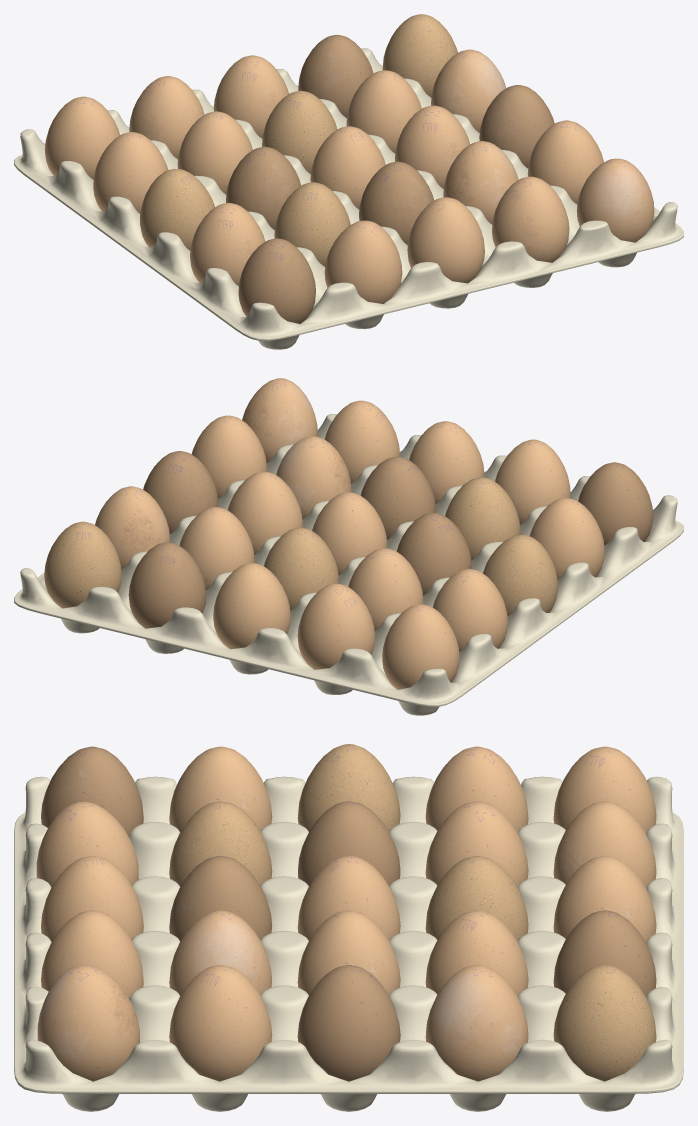
The model's file is Eggs 1 .fbx.
3 views of the same model, one above another, from view 1: azimuth 30°, elevation 25°; view 2: azimuth 150°, elevation 25°; view 3: azimuth 270°, elevation 25° (orthographic). The views are drawn at different scales.
Visible parts, largest first — view 1: Plane003_Material #26_0, Sphere021_2_0, Sphere016_Material #31_0, Sphere006_1_0, Sphere011_Material #32_0, Sphere026_Material #27_0, Sphere005_2_0, Sphere002_Material #30_0, Sphere004_Material #32_0, Sphere003_Material #31_0, Sphere010_Material #30_0, Sphere025_Material #32_0 (+14 smaller); view 2: Plane003_Material #26_0, Sphere009_2_0, Sphere024_Material #30_0, Sphere014_2_0, Sphere019_1_0, Sphere004_Material #32_0, Sphere003_Material #31_0, Sphere006_1_0, Sphere002_Material #30_0, Sphere005_2_0, Sphere011_Material #32_0, Sphere026_Material #27_0 (+14 smaller); view 3: Plane003_Material #26_0, Sphere022_1_0, Sphere025_Material #32_0, Sphere023_Material #27_0, Sphere026_Material #27_0, Sphere024_Material #30_0, Sphere002_Material #30_0, Sphere006_1_0, Sphere003_Material #31_0, Sphere004_Material #32_0, Sphere010_Material #30_0, Sphere005_2_0 (+14 smaller).
Boxes of the visible parts, x1,y1,x2,y2 form: Plane003_Material #26_0: (14, 48, 683, 349); Sphere021_2_0: (492, 176, 569, 262); Sphere016_Material #31_0: (407, 197, 484, 283); Sphere006_1_0: (238, 238, 315, 323); Sphere011_Material #32_0: (324, 220, 402, 303); Sphere026_Material #27_0: (576, 158, 654, 242); Sphere005_2_0: (190, 203, 265, 285); Sphere002_Material #30_0: (140, 169, 214, 250); Sphere004_Material #32_0: (44, 96, 119, 179); Sphere003_Material #31_0: (93, 132, 168, 213); Sphere010_Material #30_0: (274, 182, 350, 266); Sphere025_Material #32_0: (527, 120, 603, 204); Plane003_Material #26_0: (14, 414, 683, 715); Sphere009_2_0: (297, 583, 375, 669); Sphere024_Material #30_0: (44, 521, 121, 608); Sphere014_2_0: (213, 563, 290, 649); Sphere019_1_0: (128, 542, 206, 628); Sphere004_Material #32_0: (382, 604, 459, 689); Sphere003_Material #31_0: (432, 568, 507, 651); Sphere006_1_0: (578, 462, 653, 545); Sphere002_Material #30_0: (483, 535, 557, 616); Sphere005_2_0: (529, 498, 604, 579); Sphere011_Material #32_0: (495, 439, 570, 524); Sphere026_Material #27_0: (242, 378, 317, 463); Plane003_Material #26_0: (14, 776, 683, 1111); Sphere022_1_0: (297, 965, 400, 1081); Sphere025_Material #32_0: (169, 965, 272, 1081); Sphere023_Material #27_0: (425, 965, 528, 1081); Sphere026_Material #27_0: (37, 964, 139, 1081); Sphere024_Material #30_0: (553, 965, 656, 1081); Sphere002_Material #30_0: (297, 744, 400, 831); Sphere006_1_0: (41, 746, 143, 835); Sphere003_Material #31_0: (425, 746, 528, 832); Sphere004_Material #32_0: (553, 746, 656, 833); Sphere010_Material #30_0: (169, 801, 272, 886); Sphere005_2_0: (169, 746, 272, 832).
Bounding box in the file's own units: 3.69 × 0.8306 × 3.69.
7 materials, 7 textured.
